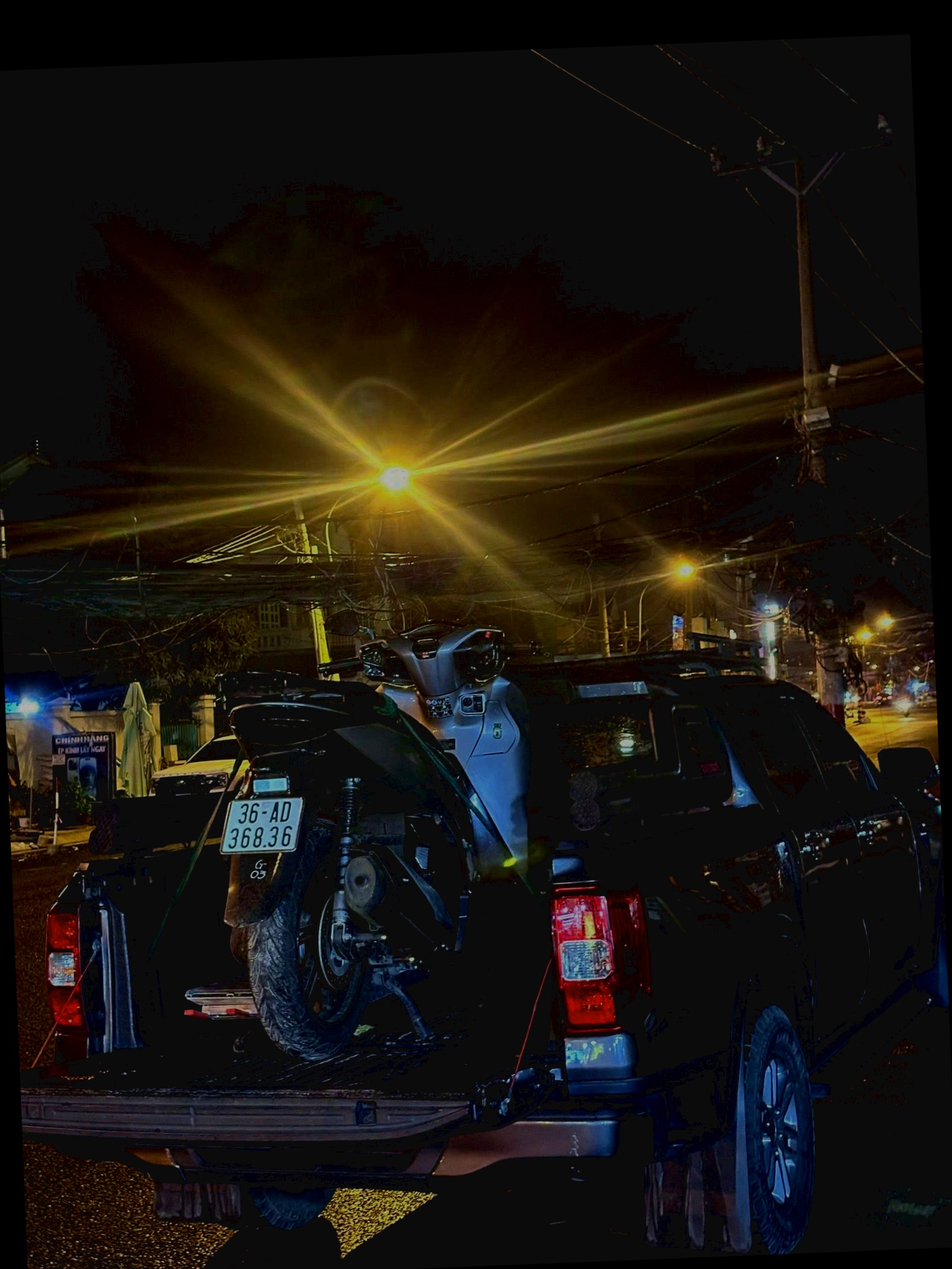Bien-so: (219, 795, 301, 851)
